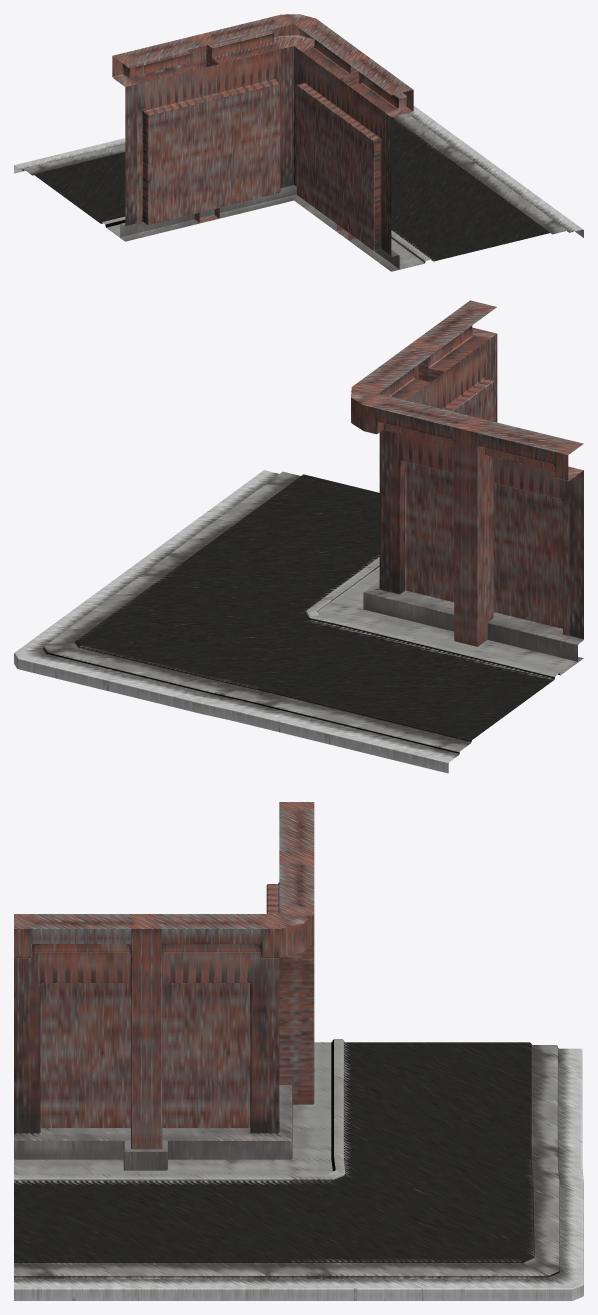
The model's file is Road corner.glb.
3 renders of one model, top to bottom at view 1: azimuth 30°, elevation 25°; view 2: azimuth 150°, elevation 25°; view 3: azimuth 270°, elevation 25°, orthographic. The views are drawn at different scales.
Visible parts, largest first — view 1: 01-0-GF_Corner_Baked; view 2: 01-0-GF_Corner_Baked; view 3: 01-0-GF_Corner_Baked.
Part boxes in pixels (x1=…): 01-0-GF_Corner_Baked: x1=14, y1=14, x2=583, y2=271; 01-0-GF_Corner_Baked: x1=14, y1=300, x2=583, y2=773; 01-0-GF_Corner_Baked: x1=14, y1=802, x2=583, y2=1300.
Size of the model in its own units: 2.14 by 1.08 by 2.15.
1 material, 1 textured.
